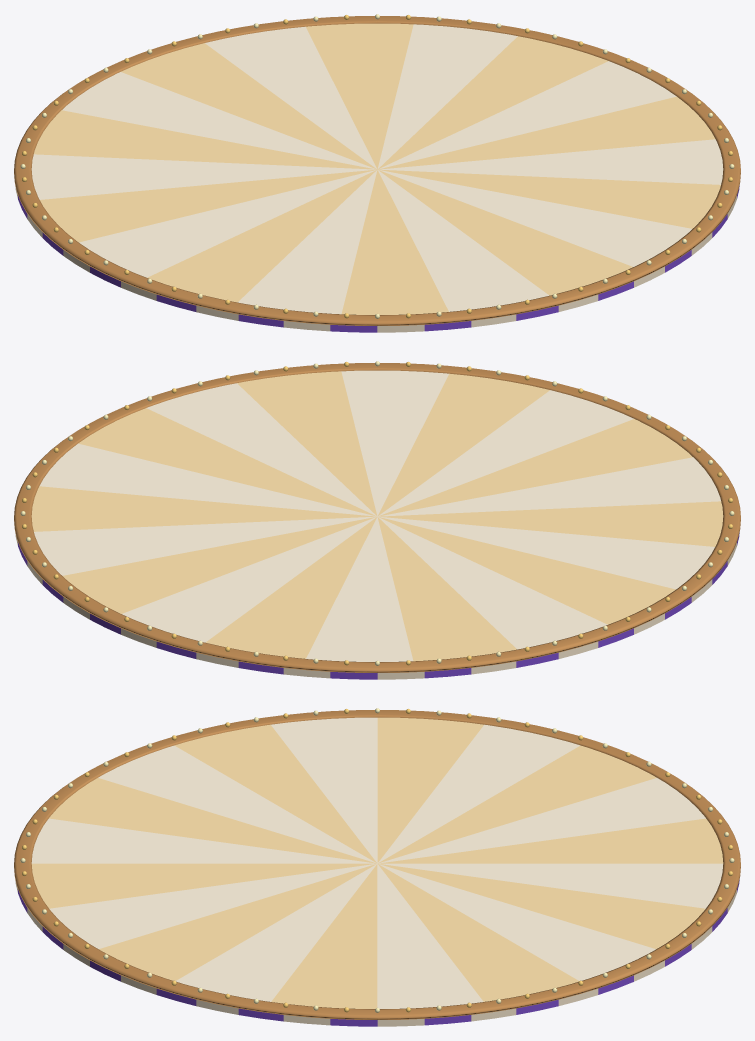
The model's file is PumpStageDeck.obj.
The picture shows the model from 3 angles, top to bottom: view 1: azimuth 30°, elevation 25°; view 2: azimuth 150°, elevation 25°; view 3: azimuth 270°, elevation 25°; orthographic projection.
Parts seen in each view (by area): view 1: DeckA, DeckB, Lip, SkirtA, SkirtB, BulbsB, BulbsA; view 2: DeckB, DeckA, Lip, SkirtA, SkirtB, BulbsB, BulbsA; view 3: DeckA, DeckB, Lip, SkirtA, SkirtB, BulbsB, BulbsA.
Boxes of the visible parts, box(x1,y1,x2,y2) form: DeckA: box(31, 24, 723, 314); DeckB: box(34, 23, 720, 314); Lip: box(14, 16, 740, 325); SkirtA: box(18, 186, 739, 332); SkirtB: box(15, 186, 736, 332); BulbsB: box(22, 15, 732, 318); BulbsA: box(20, 14, 734, 318); DeckB: box(31, 371, 723, 661); DeckA: box(34, 370, 720, 661); Lip: box(14, 363, 740, 672); SkirtA: box(18, 533, 739, 679); SkirtB: box(15, 533, 736, 679); BulbsB: box(22, 362, 732, 665); BulbsA: box(20, 361, 734, 665); DeckA: box(31, 717, 723, 1008); DeckB: box(31, 717, 723, 1008); Lip: box(14, 710, 740, 1019); SkirtA: box(18, 880, 739, 1026); SkirtB: box(15, 880, 736, 1026); BulbsB: box(22, 709, 732, 1012); BulbsA: box(20, 708, 734, 1012).
Size of the model in its own units: 80.1 by 1.86 by 80.1.
